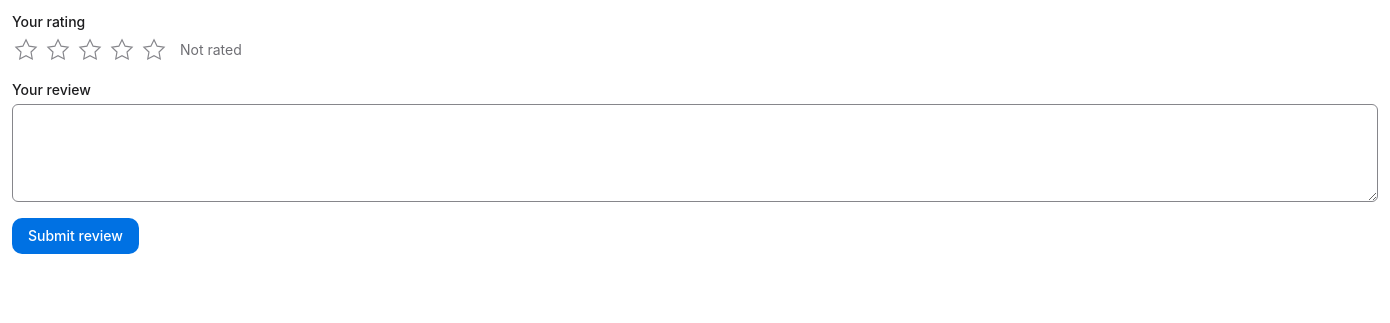
Scenario: ReviewForm › validates that a rating and body are provided
Step 1. Click the button "Submit review" → (75, 236), box x1=12 y1=218 x2=139 y2=254
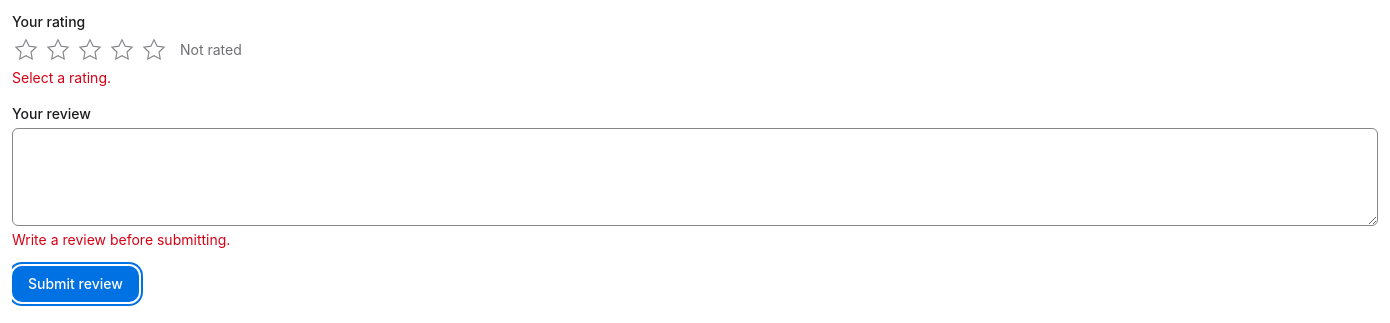
Now the text "Select a rating." is shown, box x1=12 y1=69 x2=111 y2=86
Now the text "Write a review before submitting." is shown, box x1=12 y1=231 x2=230 y2=248
